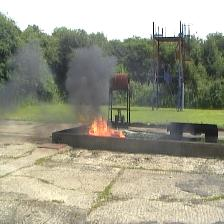fire: (89, 118, 126, 138)
smoke: (67, 45, 111, 117)
